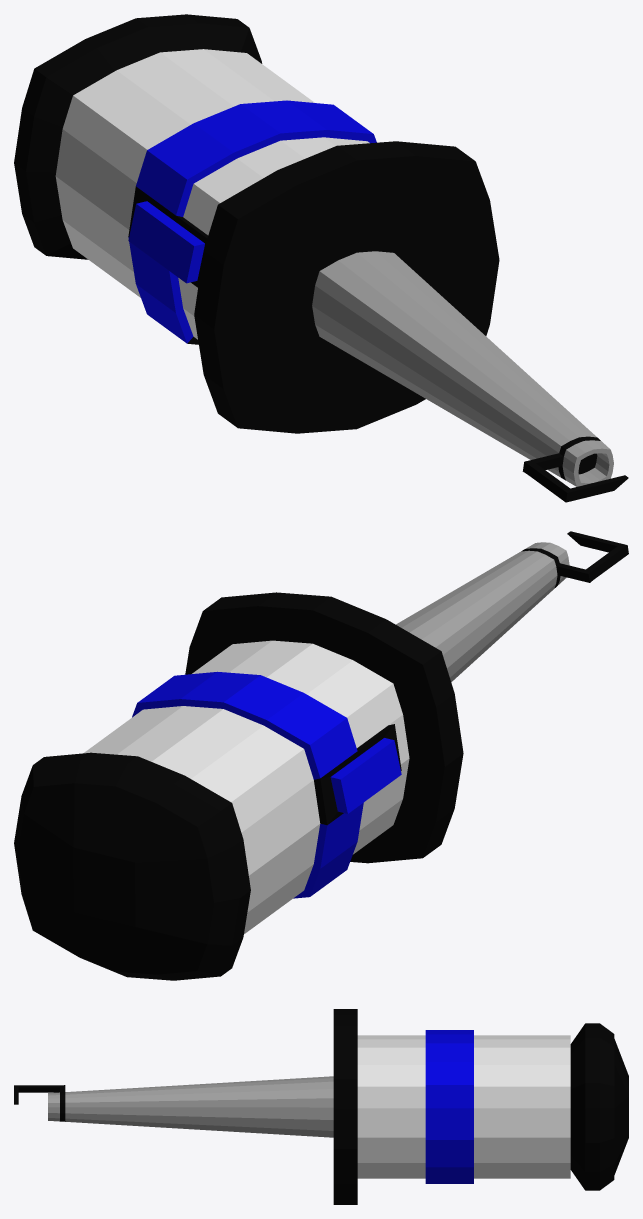
File: HandBlowTorch.fbx
3 views of the same model, one above another, from view 1: azimuth 30°, elevation 25°; view 2: azimuth 150°, elevation 25°; view 3: azimuth 270°, elevation 25° (orthographic). The views are drawn at different scales.
Parts seen in each view (by area): view 1: Base; view 2: Base; view 3: Base.
Boxes of the visible parts, x1,y1,x2,y2 form: Base: (14,14,628,502); Base: (14,531,628,980); Base: (14,1009,628,1204).
Bounding box in the file's own units: 0.41 × 0.369 × 1.27.
